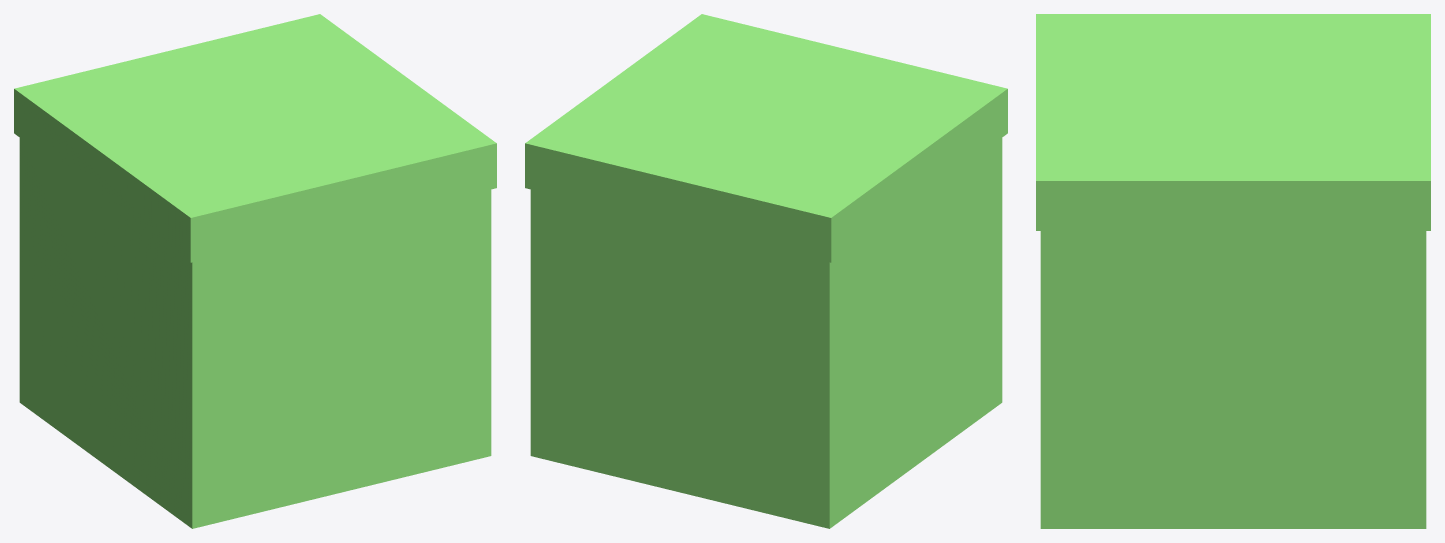
The model's file is prebox08270336Green.fbx.
The picture shows the model from 3 angles, left to right: view 1: azimuth 30°, elevation 25°; view 2: azimuth 150°, elevation 25°; view 3: azimuth 270°, elevation 25°; orthographic projection. The views are drawn at different scales.
Visible parts, largest first — view 1: Cube; view 2: Cube; view 3: Cube.
Boxes of the visible parts, x1,y1,x2,y2 form: Cube: (14, 14, 496, 528); Cube: (525, 14, 1007, 528); Cube: (1036, 14, 1430, 528).
Size of the model in its own units: 2.05 by 2 by 2.05.
